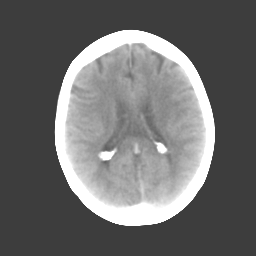ischemic: (152, 86, 178, 129)
